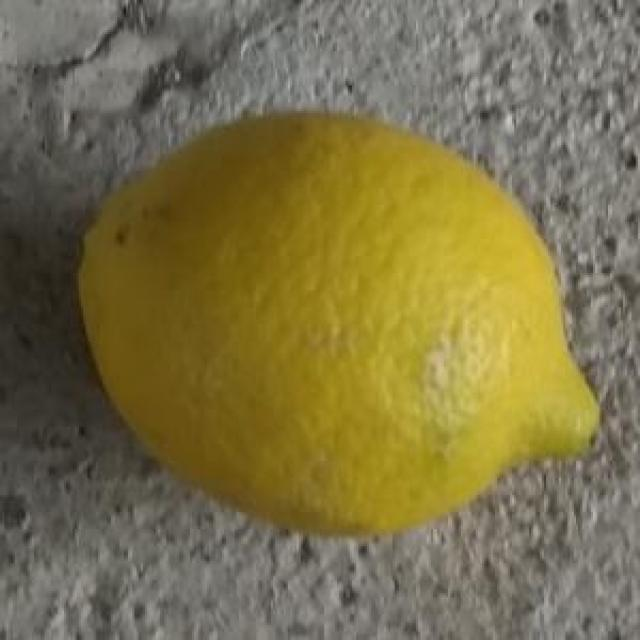lemon: (74, 111, 600, 538)
